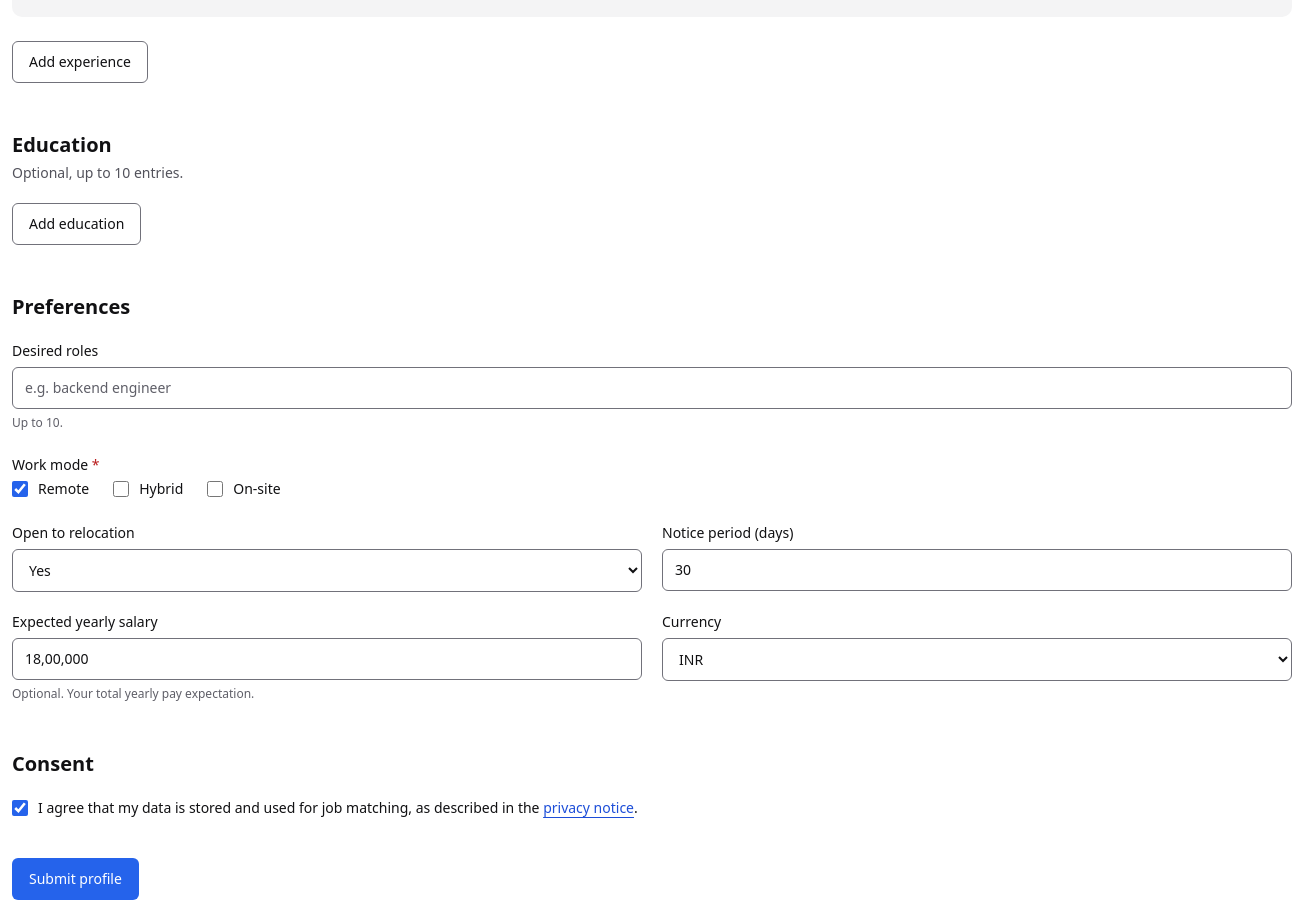
CandidateForm › shows the duplicate-email message from the server on the email field
(page scrolled)
Click the button "Submit profile".
click(75, 878)  # box x1=12 y1=858 x2=139 y2=899
(page scrolled)
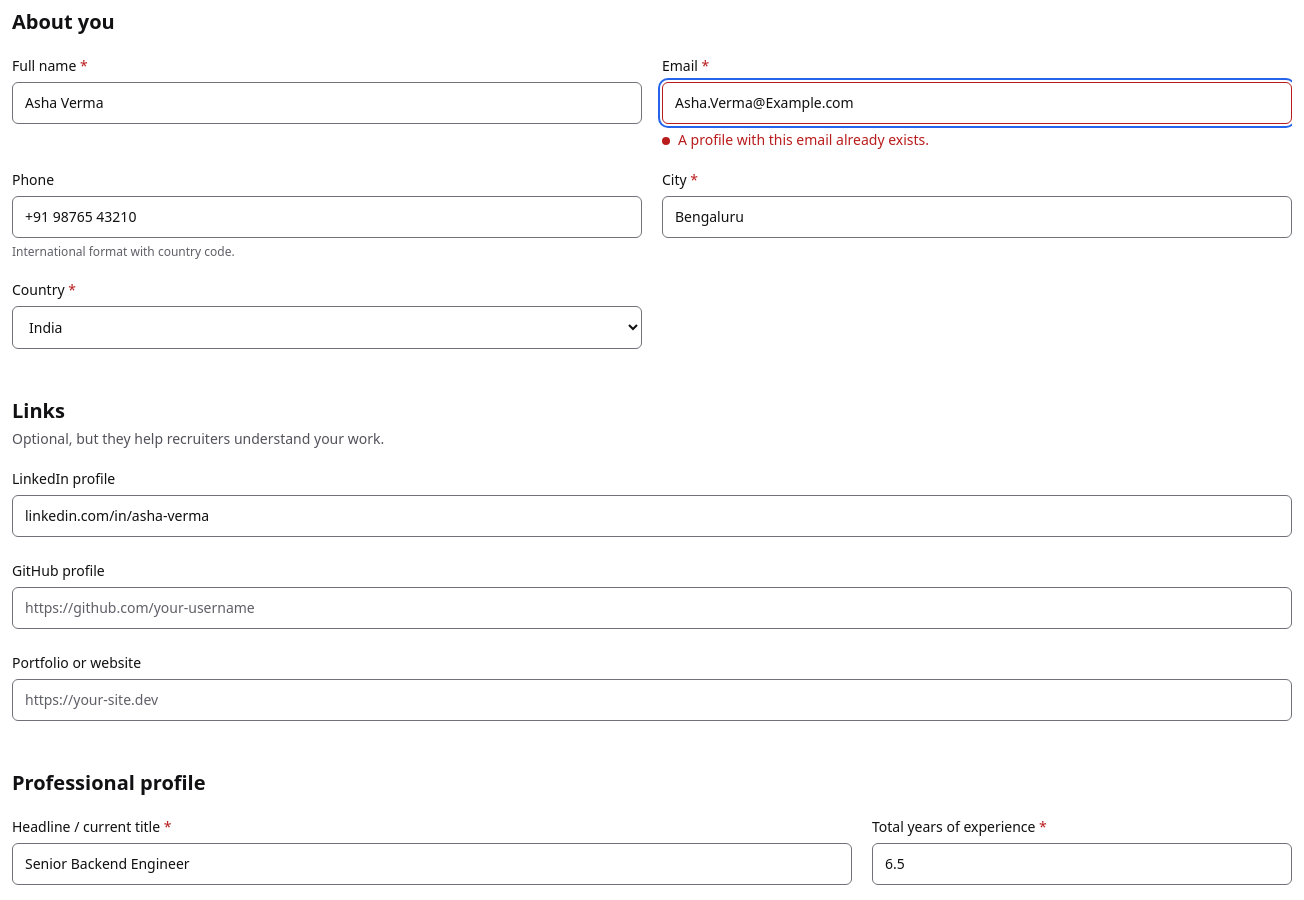
Now the text "A profile with this email already exists." is shown, box x1=678 y1=130 x2=929 y2=150
